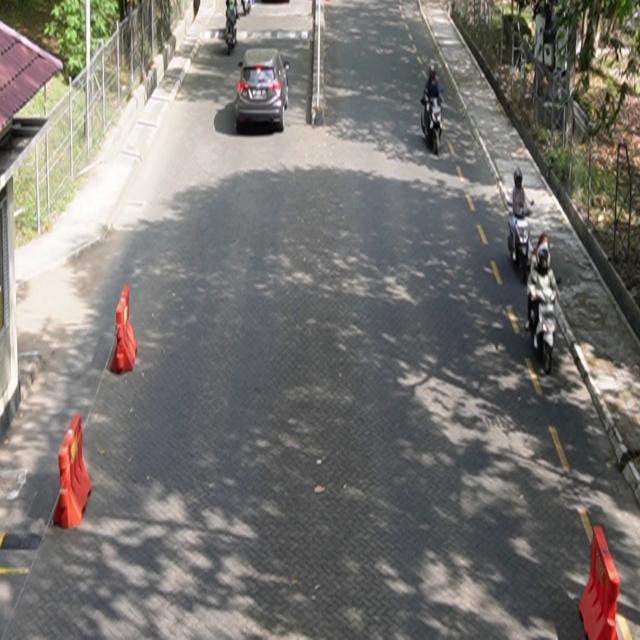car: (236, 48, 290, 133)
